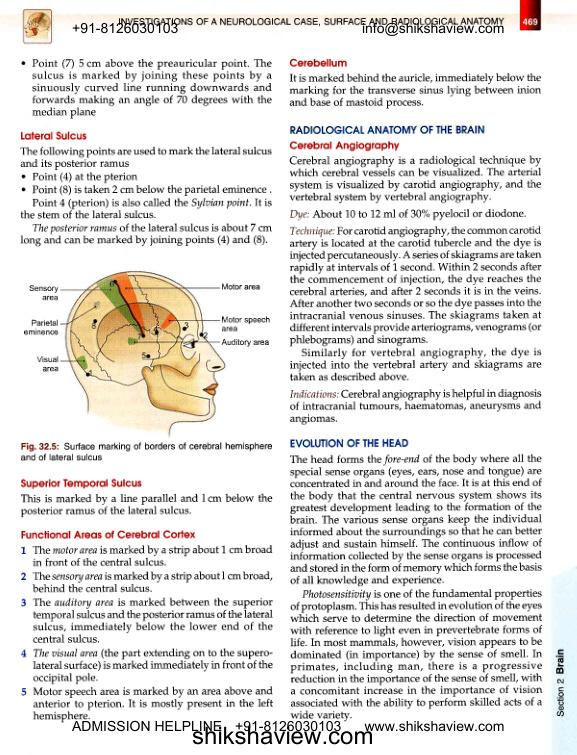caption: (19, 441, 274, 462)
header: (118, 17, 505, 26)
image: (18, 261, 276, 439)
list: (19, 544, 275, 724), (20, 57, 273, 120), (19, 171, 273, 197)
sub-section-heading: (289, 124, 486, 135), (20, 529, 197, 540), (19, 477, 143, 490), (288, 437, 409, 449), (288, 140, 400, 152), (20, 130, 88, 141), (288, 57, 349, 68), (289, 225, 335, 237), (289, 389, 339, 399), (290, 210, 310, 222)
text: (288, 154, 543, 426), (288, 453, 544, 721), (19, 197, 273, 248), (288, 71, 542, 110), (19, 492, 274, 519), (19, 145, 272, 170)
